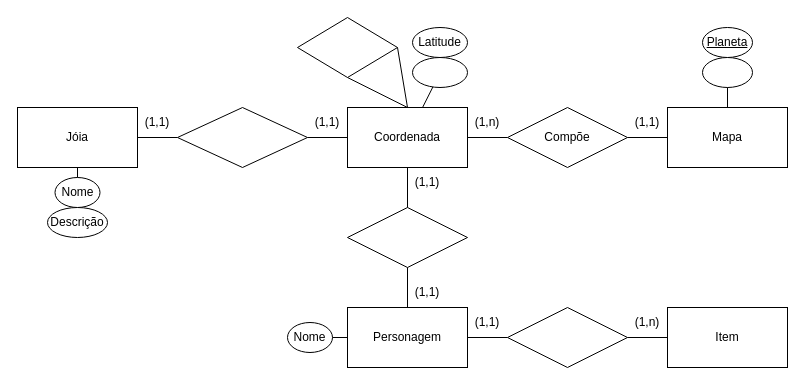
This 805x385 diagram has some shape labels left out. The shapes that lost their labels are listed below. From the top down, each one's centre as x and y in pixels, then its label:
(347,47): Leva a
(440,72): Longitude
(727,72): Ano
(242,137): É coletada
(407,237): Está em
(567,337): Usa
